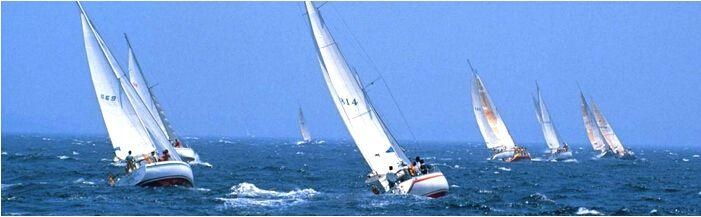fanchuan: (294, 1, 452, 198), (68, 1, 198, 188), (461, 57, 534, 161), (529, 78, 578, 160), (593, 98, 642, 164), (577, 89, 613, 158), (293, 100, 325, 147)
